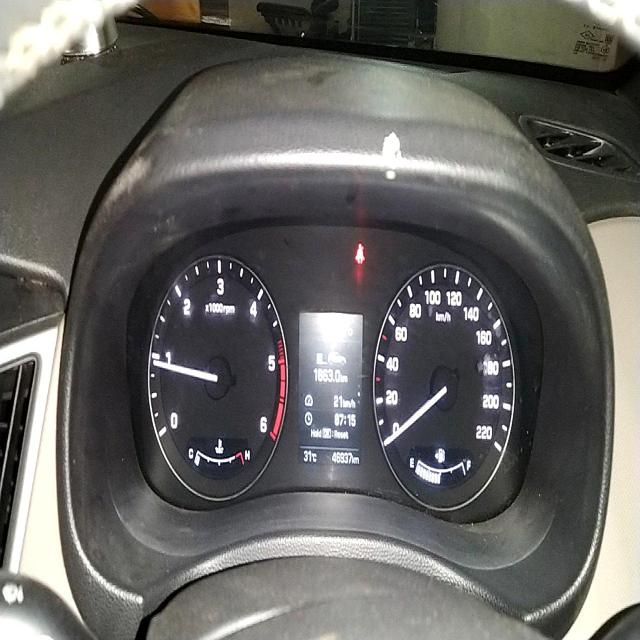odometer: (330, 450, 352, 465)
